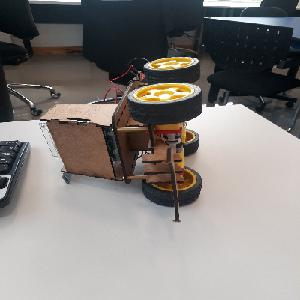Robot: (39, 56, 202, 222)
